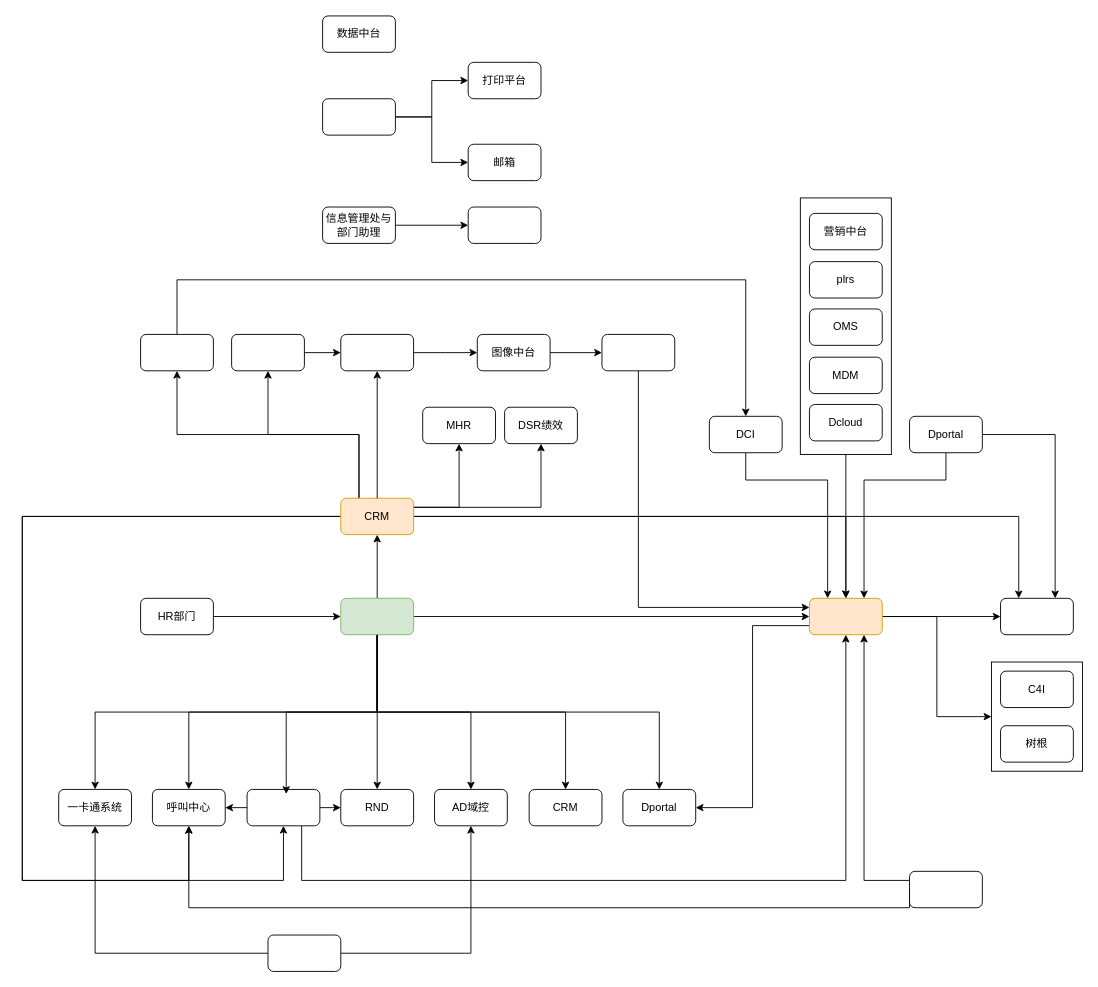
Image size: 1098x987. Some labels were removed from this diagram. Each missing label, with the centre of its shape:
"AD" belongs at point 358,116.
"DSFA" belongs at point 638,352.
"SAP" belongs at point 283,807.
"SF" belongs at point 377,616.
"SFA" belongs at point 377,352.
"Siebel" belongs at point 176,352.
"TMS" belongs at point 945,889.
"中间库" belongs at point 304,952.
"数据湖" belongs at point 845,616.
"文件服务器" belongs at point 504,224.
"树根到客" belongs at point 1036,616.
"绩效联动收入" belongs at point 267,352.
